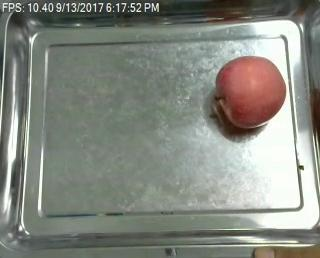apple: (214, 55, 287, 127)
